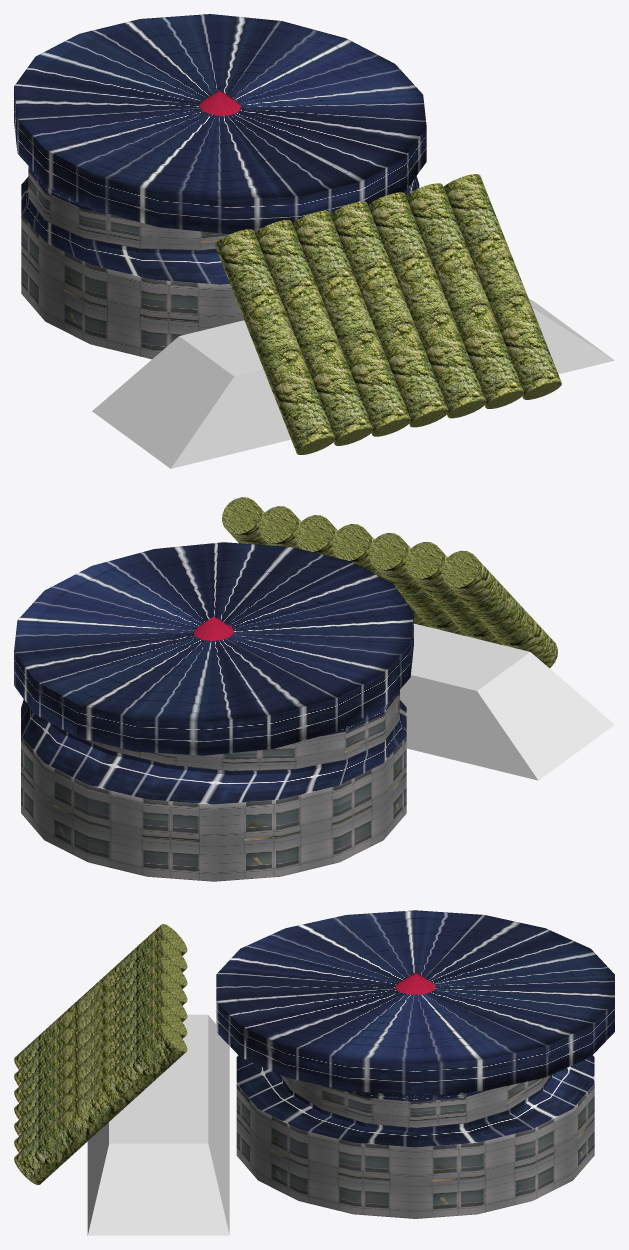
Rendered from algaeFarm(1draftUgly one).FBX.
3 renders of one model, top to bottom at view 1: azimuth 30°, elevation 25°; view 2: azimuth 150°, elevation 25°; view 3: azimuth 270°, elevation 25°, orthographic. The views are drawn at different scales.
Visible parts, largest first — view 1: Cylinder008, Box001, Cylinder001, Cylinder005, Cylinder002, Cylinder004, Cylinder003, Cylinder006, Cylinder007; view 2: Cylinder008, Box001, Cylinder001, Cylinder002, Cylinder003, Cylinder004, Cylinder007, Cylinder006, Cylinder005; view 3: Cylinder008, Box001, Cylinder007, Cylinder005, Cylinder003, Cylinder001, Cylinder004, Cylinder002, Cylinder006.
Part boxes in pixels (x1,y1,x2,y2): Cylinder008: [14, 14, 426, 359]; Box001: [92, 298, 614, 468]; Cylinder001: [215, 229, 335, 454]; Cylinder005: [368, 192, 486, 418]; Cylinder002: [255, 220, 373, 445]; Cylinder004: [330, 201, 448, 427]; Cylinder003: [293, 211, 410, 436]; Cylinder006: [406, 183, 524, 408]; Cylinder007: [443, 174, 561, 399]; Cylinder008: [14, 542, 413, 881]; Box001: [400, 623, 614, 780]; Cylinder001: [441, 550, 557, 668]; Cylinder002: [404, 542, 502, 644]; Cylinder003: [368, 533, 465, 635]; Cylinder004: [331, 524, 429, 627]; Cylinder007: [222, 497, 268, 545]; Cylinder006: [258, 506, 301, 549]; Cylinder005: [295, 515, 337, 557]; Cylinder008: [216, 910, 614, 1218]; Box001: [87, 1014, 229, 1235]; Cylinder007: [14, 1023, 187, 1184]; Cylinder005: [14, 990, 187, 1135]; Cylinder003: [14, 957, 187, 1102]; Cylinder001: [14, 924, 187, 1069]; Cylinder004: [14, 973, 187, 1119]; Cylinder002: [14, 940, 187, 1086]; Cylinder006: [14, 1007, 187, 1152].
Size of the model in its own units: 722 by 293 by 940.
